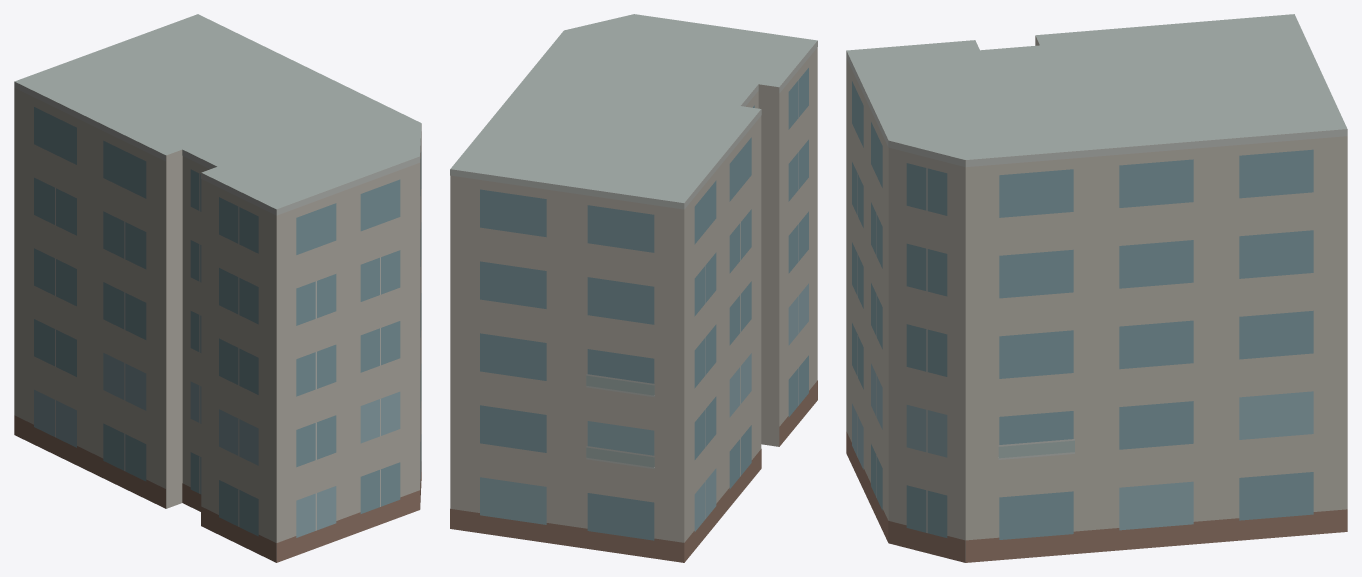
Rendered from survey-upis-32526558.glb.
3 renders of one model, left to right at view 1: azimuth 30°, elevation 25°; view 2: azimuth 150°, elevation 25°; view 3: azimuth 270°, elevation 25°, orthographic. The views are drawn at different scales.
Visible parts, largest first — view 1: survey-upis-32526558.tmp; view 2: survey-upis-32526558.tmp; view 3: survey-upis-32526558.tmp.
Boxes of the visible parts, left/top/right/bottom form: survey-upis-32526558.tmp: left=14, top=14, right=421, bottom=562; survey-upis-32526558.tmp: left=450, top=14, right=817, bottom=562; survey-upis-32526558.tmp: left=846, top=14, right=1347, bottom=562.
Bounding box in the file's own units: 10.75 × 13.8 × 15.57.
